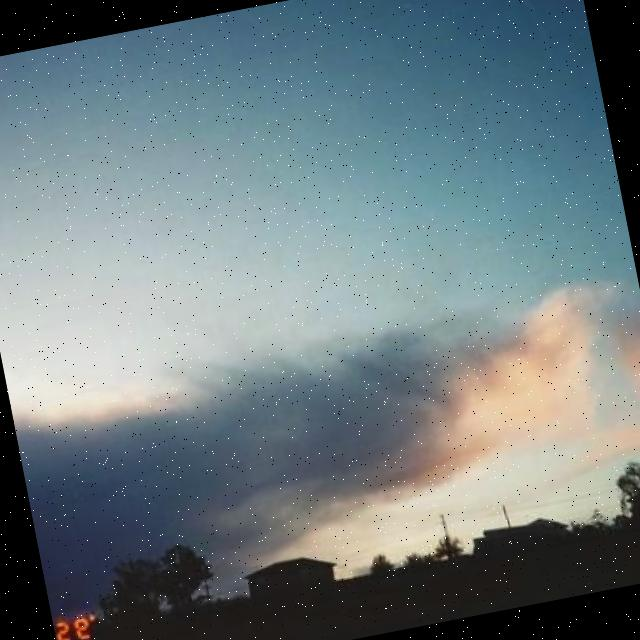Ns: (1, 213, 640, 569)
